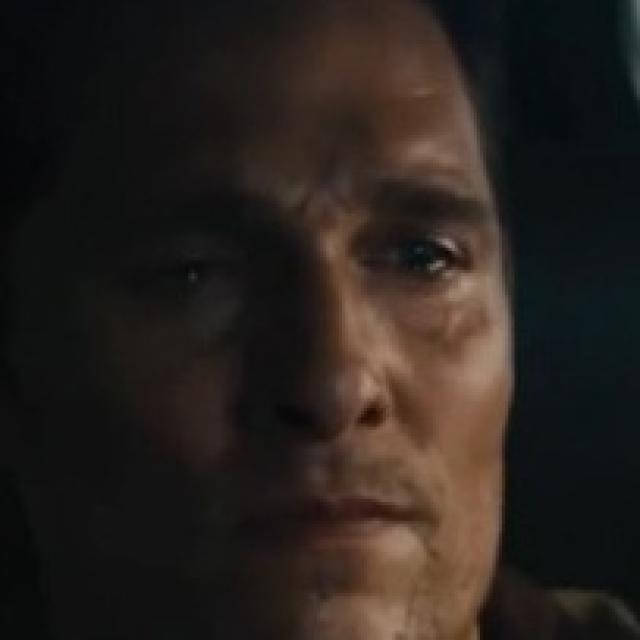Depress: (0, 0, 520, 637)
